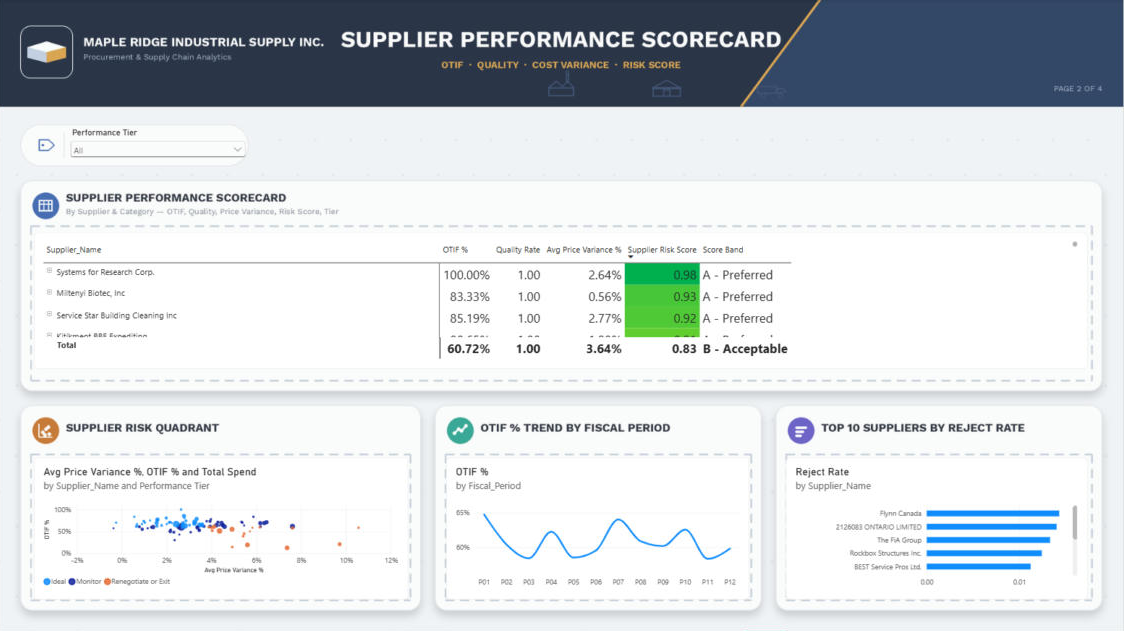

The page's visual inventory and layout, read from the dashboard file:
{"tool":"powerbi","page":{"name":"Supplier Scorecard","canvas":[1920,1080],"ordinal":1},"visuals":[{"type":"pivotTable","fields":{"Rows":["Dim_Supplier.Supplier_Name","Dim_Supplier.Category"],"Values":["Measure_Table.OTIF %","Measure_Table.Quality Rate","Measure_Table.Avg Price Variance %","Measure_Table.Supplier Risk Score","Measure_Table.Performance Tier"]},"box":[58.7,397.8,1800,232.6],"z":0},{"type":"scatterChart","fields":{"Category":["Dim_Supplier.Supplier_Name"],"Series":["Dim_Supplier.Performance Tier"],"Size":["Measure_Table.Total Spend"],"X":["Measure_Table.Avg Price Variance %"],"Y":["Measure_Table.OTIF %"]},"box":[58.7,782.6,639.1,243.5],"z":1000},{"type":"lineChart","fields":{"Category":["Dim_Date.Fiscal_Period"],"Y":["Measure_Table.OTIF %"]},"box":[763,782.6,517.4,243.5],"z":2000},{"type":"clusteredBarChart","fields":{"Category":["Dim_Supplier.Supplier_Name"],"Y":["Measure_Table.Reject Rate"]},"box":[1343.5,782.6,515.2,243.5],"z":3000},{"type":"slicer","fields":{"Values":["Dim_Supplier.Performance Tier"]},"box":[116.1,218.5,308.7,63],"z":4000}]}

Visuals, with their boxes in screenshot pixels (x1, y1, x2, y2), scaled from the page's 1920x1080 canvas onto the 1124x631 screenshot:
pivotTable - Dim_Supplier.Supplier_Name x Dim_Supplier.Category: rect(34, 232, 1088, 368)
scatterChart - Dim_Supplier.Supplier_Name x Dim_Supplier.Performance Tier: rect(34, 457, 409, 600)
lineChart - Dim_Date.Fiscal_Period x Measure_Table.OTIF %: rect(447, 457, 750, 600)
clusteredBarChart - Dim_Supplier.Supplier_Name x Measure_Table.Reject Rate: rect(787, 457, 1088, 600)
slicer - Dim_Supplier.Performance Tier: rect(68, 128, 249, 164)
